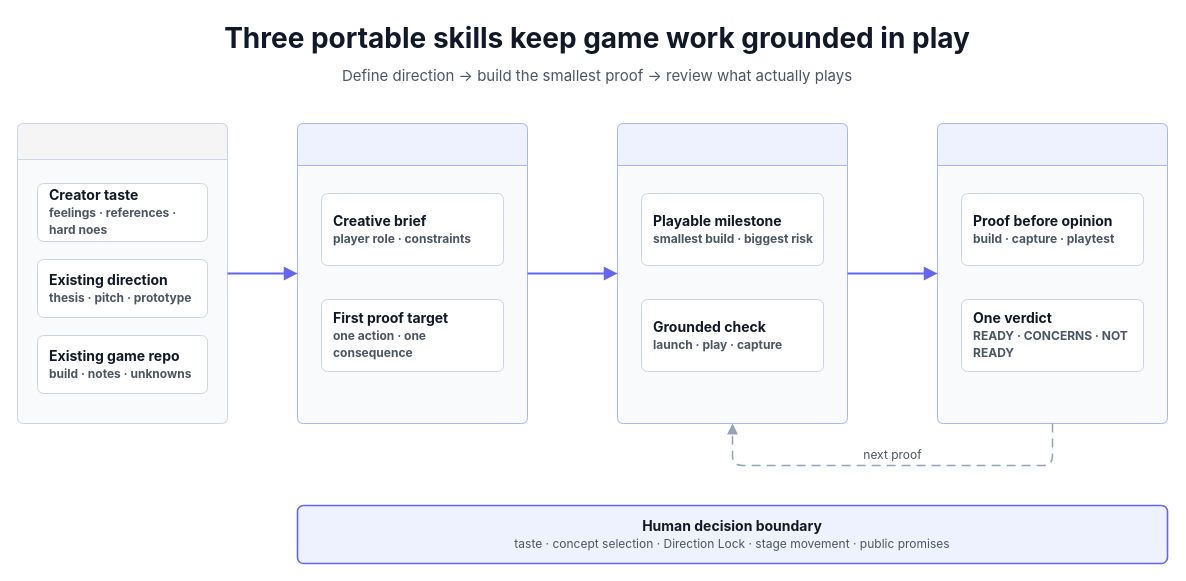
The diagram is 1186 pixels wide and 581 high, and some of its shapes have lost their labels. Each missing label, with the box of its shape:
1 · game-direction: (296, 122, 528, 424)
2 · game-production: (616, 122, 848, 424)
3 · game-review: (936, 122, 1168, 424)
Starting point: (16, 122, 228, 424)
